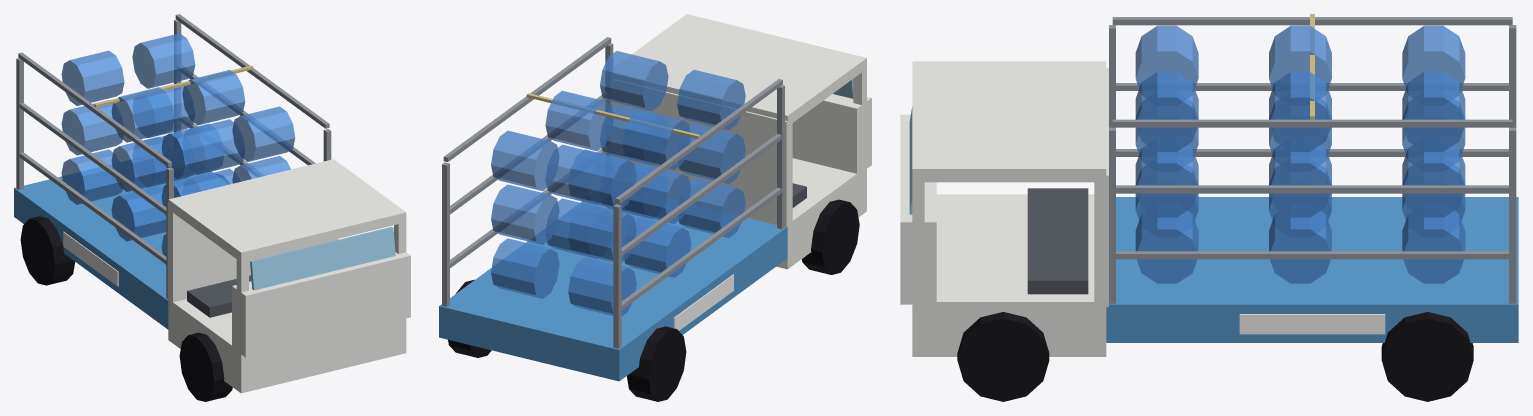
Rendered from water_truck.glb.
The picture shows the model from 3 angles, left to right: view 1: azimuth 30°, elevation 25°; view 2: azimuth 150°, elevation 25°; view 3: azimuth 270°, elevation 25°; orthographic projection. The views are drawn at different scales.
Parts seen in each view (by area): view 1: cab_van_white, jugs_jug_blue, bed_water_blue, rack_cart_metal, wheels_black, glass_car_glass, seat_seat_grey, logo_drop_white, rope_rope; view 2: jugs_jug_blue, cab_van_white, bed_water_blue, rack_cart_metal, wheels_black, logo_drop_white, rope_rope; view 3: cab_van_white, bed_water_blue, jugs_jug_blue, rack_cart_metal, wheels_black, seat_seat_grey, logo_drop_white.
Part boxes in pixels (x1=…): cab_van_white: x1=167, y1=159, x2=410, y2=393; jugs_jug_blue: x1=61, y1=33, x2=295, y2=265; bed_water_blue: x1=14, y1=159, x2=228, y2=329; rack_cart_metal: x1=16, y1=14, x2=331, y2=298; wheels_black: x1=20, y1=174, x2=232, y2=401; glass_car_glass: x1=250, y1=226, x2=395, y2=290; seat_seat_grey: x1=187, y1=275, x2=251, y2=317; logo_drop_white: x1=63, y1=231, x2=118, y2=286; rope_rope: x1=94, y1=65, x2=253, y2=107; jugs_jug_blue: x1=491, y1=51, x2=745, y2=315; cab_van_white: x1=613, y1=14, x2=871, y2=269; bed_water_blue: x1=439, y1=199, x2=787, y2=381; rack_cart_metal: x1=442, y1=37, x2=784, y2=348; wheels_black: x1=448, y1=199, x2=859, y2=401; logo_drop_white: x1=673, y1=274, x2=733, y2=330; rope_rope: x1=526, y1=93, x2=700, y2=138; cab_van_white: x1=900, y1=61, x2=1108, y2=356; bed_water_blue: x1=1106, y1=197, x2=1518, y2=342; jugs_jug_blue: x1=1135, y1=25, x2=1465, y2=283; rack_cart_metal: x1=1109, y1=17, x2=1516, y2=303; wheels_black: x1=957, y1=312, x2=1473, y2=401; seat_seat_grey: x1=1027, y1=188, x2=1088, y2=294; logo_drop_white: x1=1239, y1=314, x2=1385, y2=334.
Bounding box in the file's own units: 2.36 × 2.55 × 5.1.
